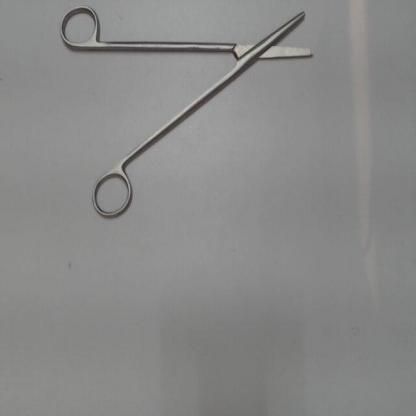9 Metzenbaum Scissors: (56, 3, 319, 228)
